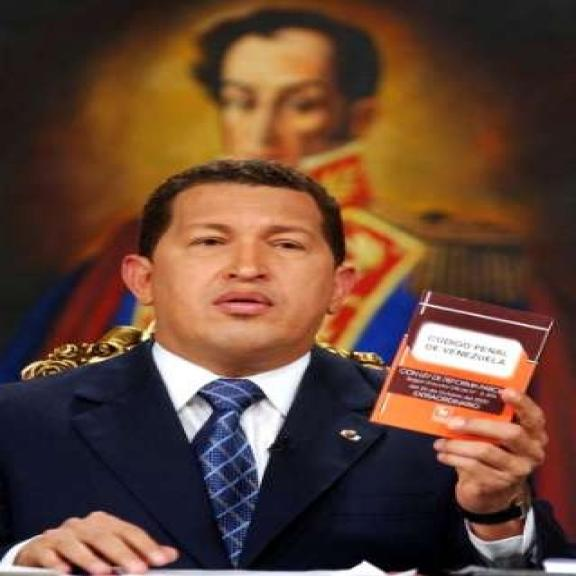face: (117, 170, 358, 368)
